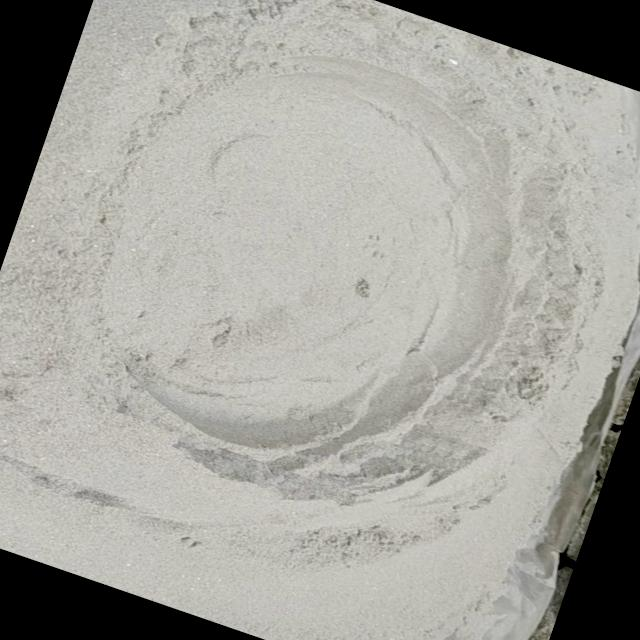C40: (99, 66, 514, 478)
